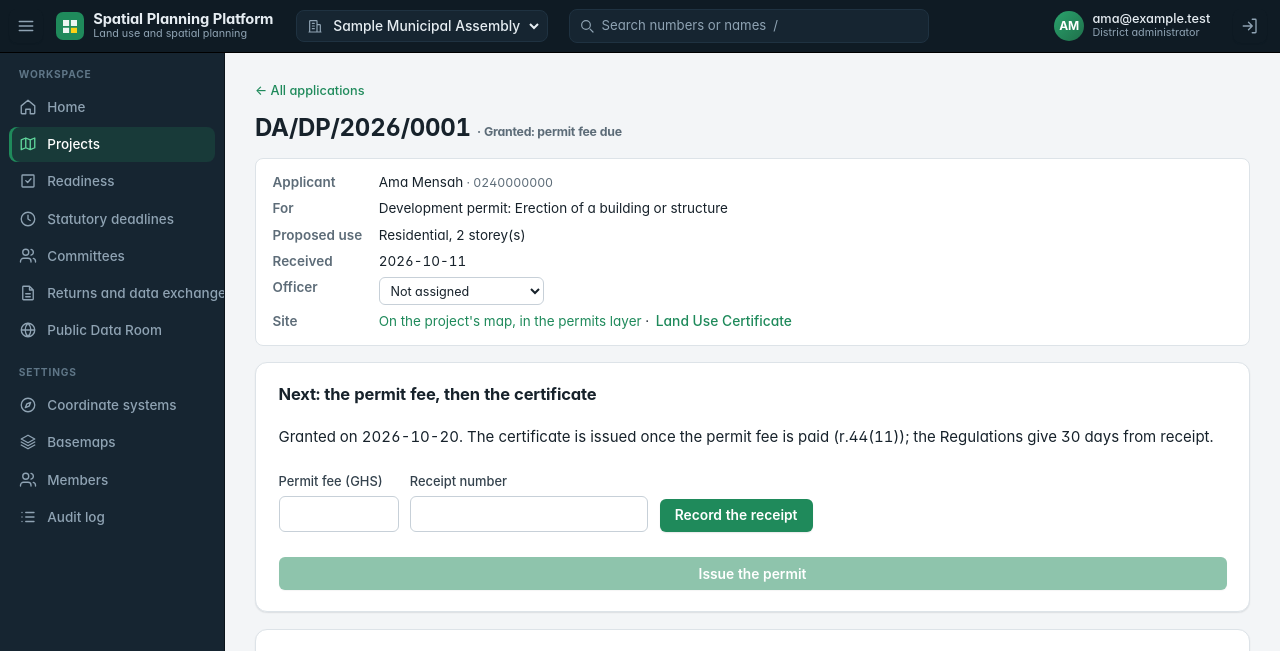
Scenario: permit page › issues the permit only once the fee's receipt is in
Expected: the button "Issue the permit" is disabled, [278,557,1226,590]
In the number field labelled "Permit fee": (338, 514) [278,496,398,532], type "850"
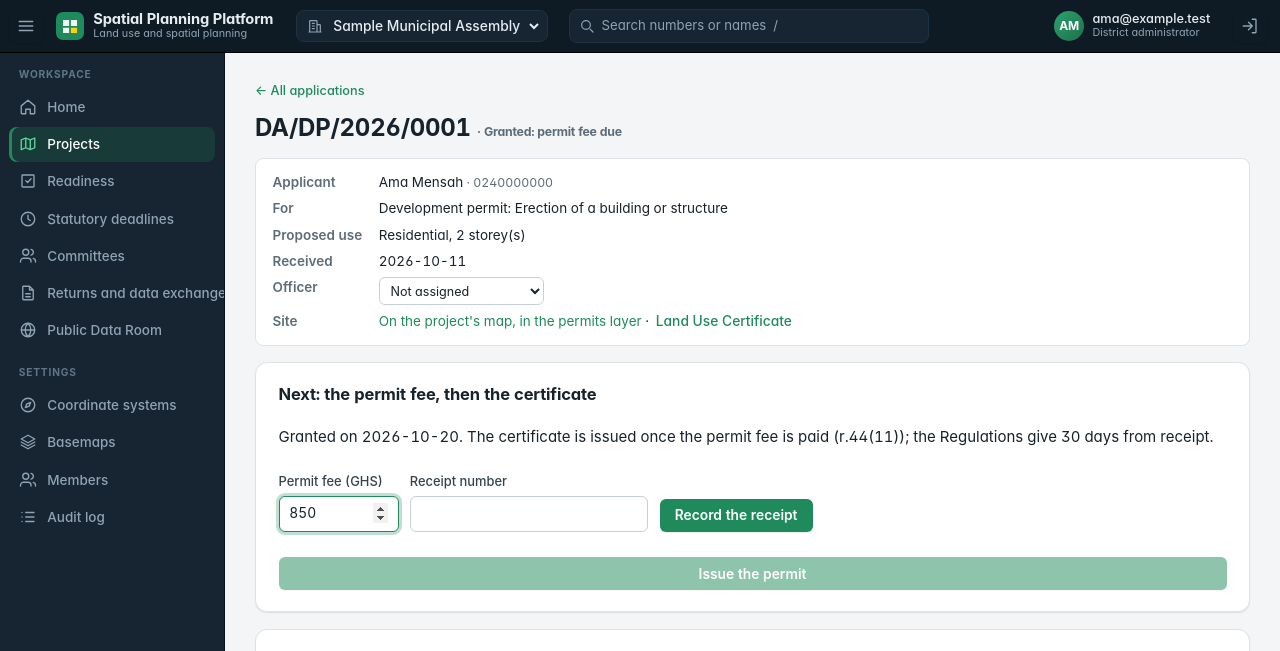
In the field labelled "Receipt number": (529, 514) [410,496,648,532], type "GCR 12"
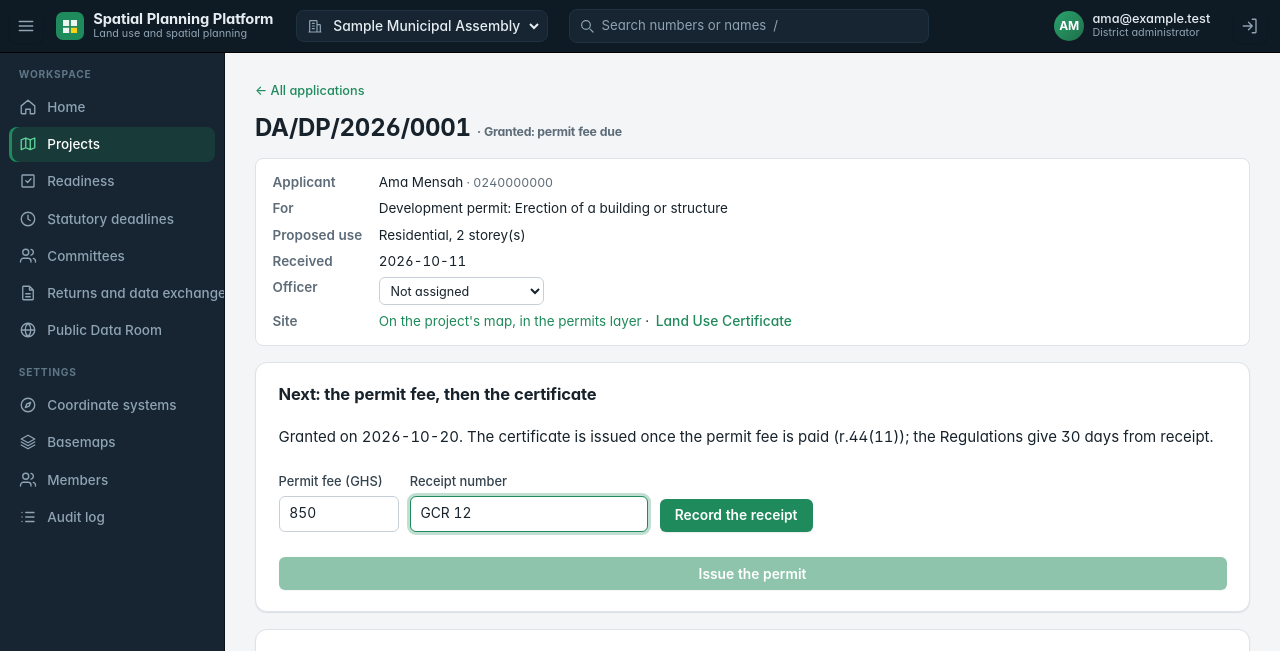
Click the button "Record the receipt": (736, 515) [660,499,813,532]
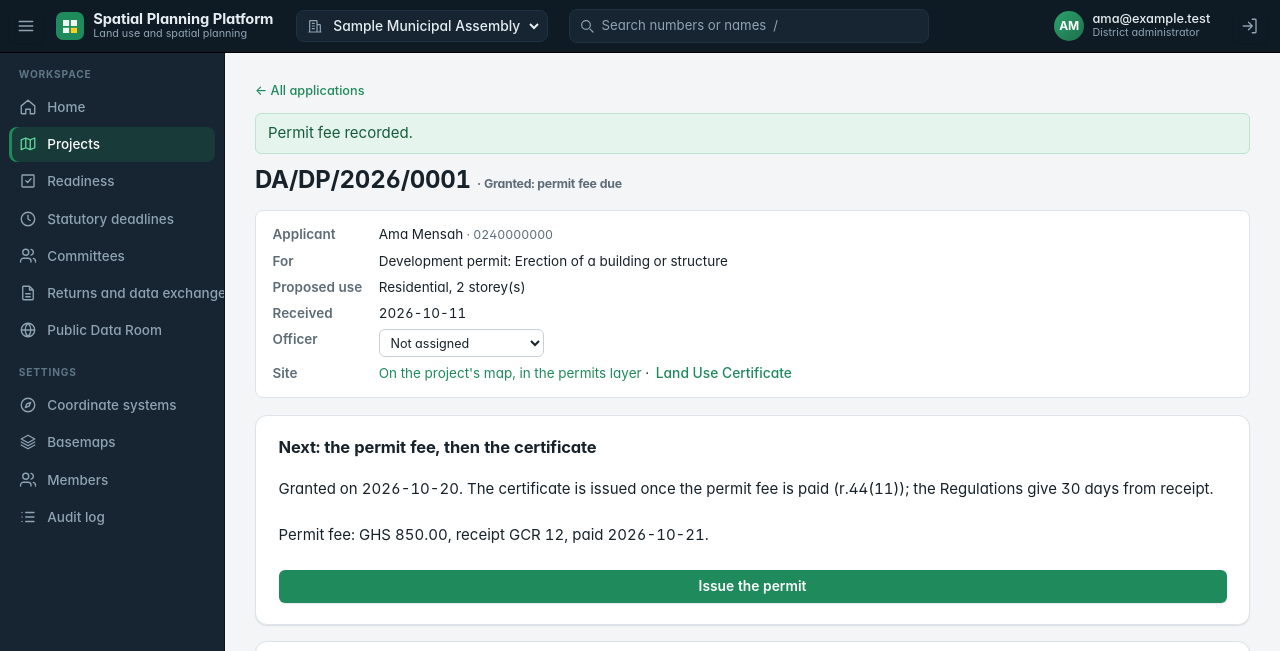
Expected: the button "Issue the permit" is enabled, [278,570,1226,603]
Expected: the element named "Next step" shows "Permit fee: GHS 850.00, receipt GCR 12, paid 2026-10-21.", [255,415,1250,625]
